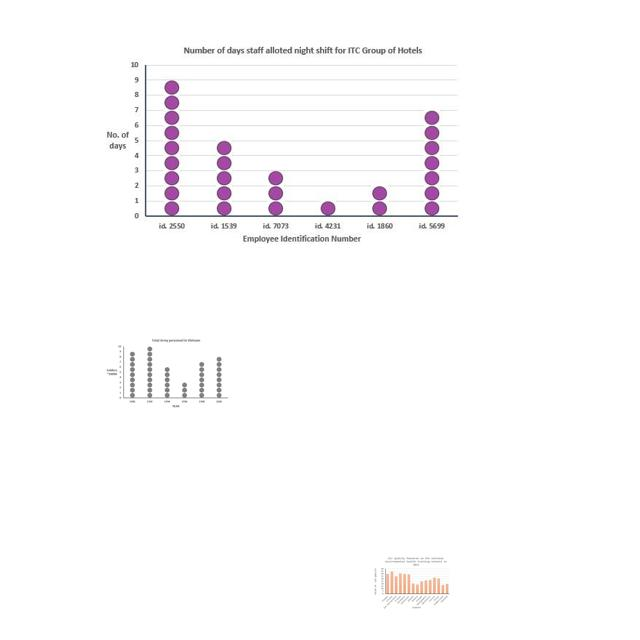Graph: (94, 41, 466, 251), (102, 336, 231, 411), (373, 556, 452, 611)
